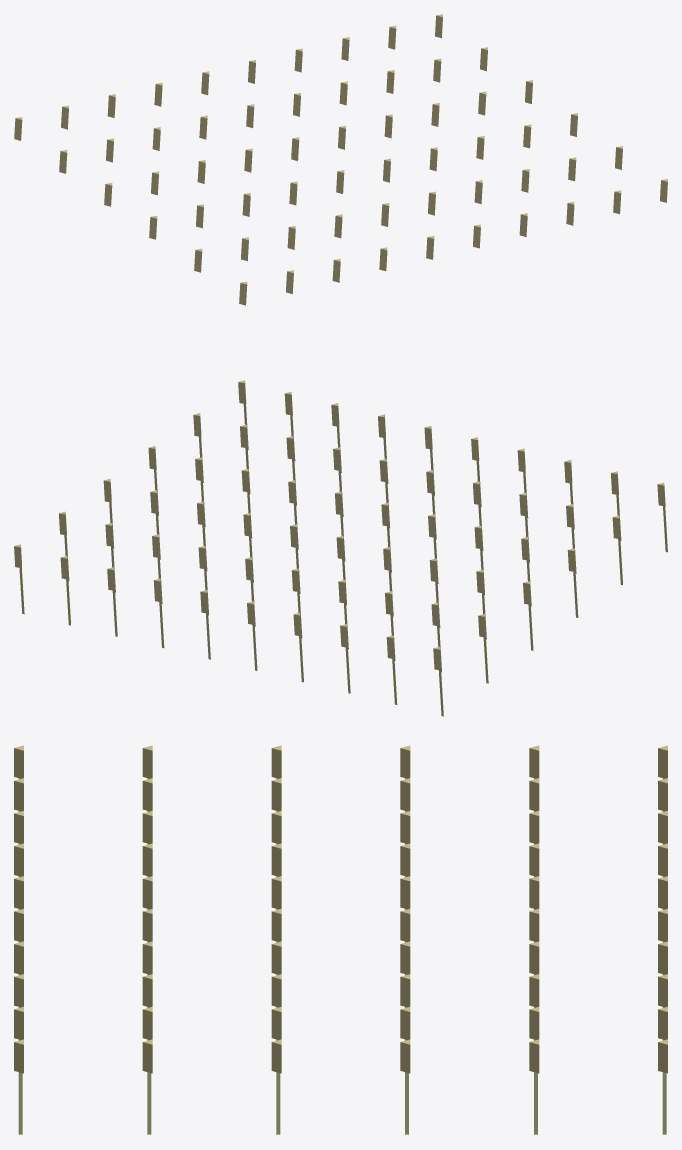
File: wheat.glb
3 views of the same model, one above another, from view 1: azimuth 30°, elevation 25°; view 2: azimuth 150°, elevation 25°; view 3: azimuth 270°, elevation 25° (orthographic). The views are drawn at different scales.
Size of the model in its own units: 7.18 by 1.07 by 6.6.
